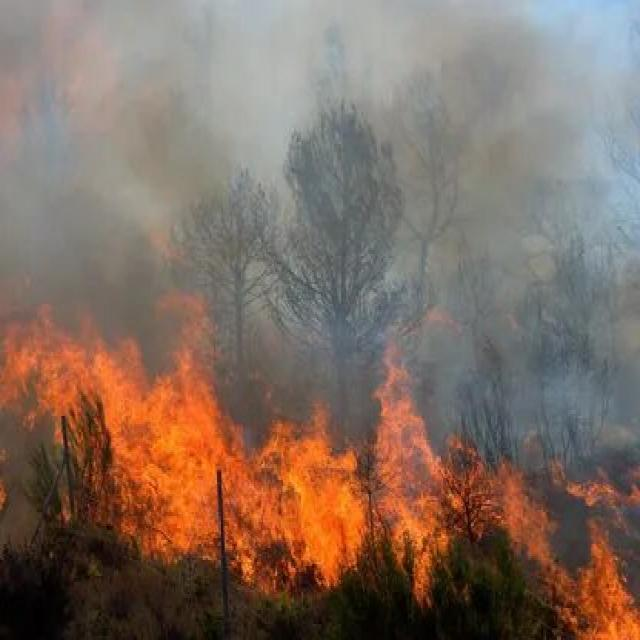Fire: (0, 300, 639, 640)
Smoke: (0, 0, 640, 336)
